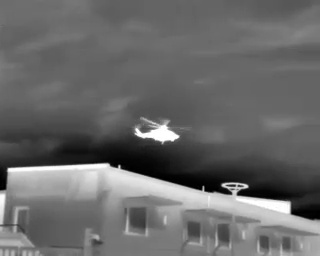HELICOPTER: (130, 111, 193, 151)
